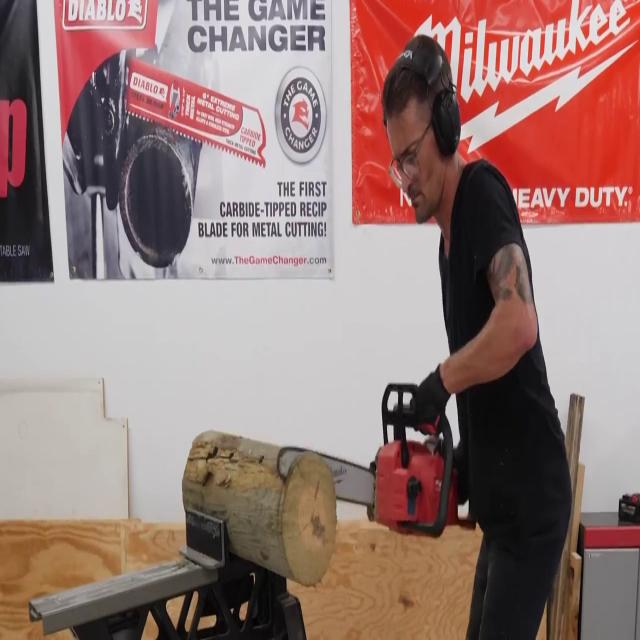earmuff: (435, 83, 466, 174)
